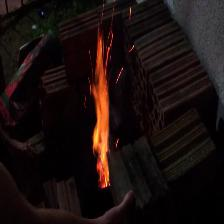fire: (63, 13, 128, 197)
